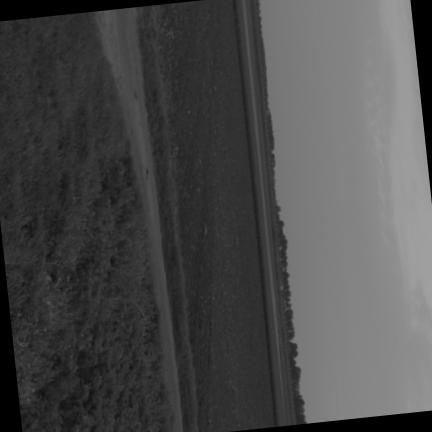Shahed: (134, 301, 146, 321)
